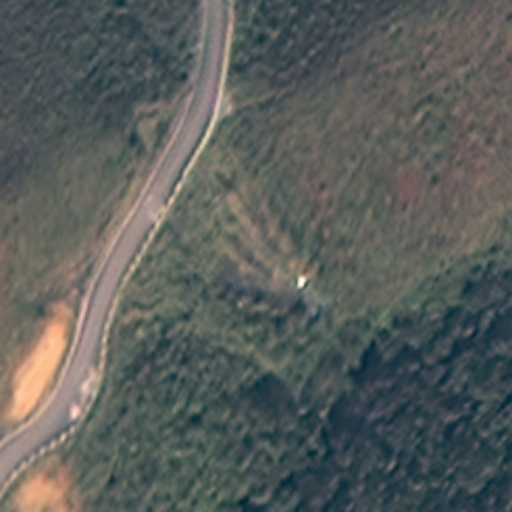landslide: (5, 312, 71, 409), (1, 458, 86, 512)
